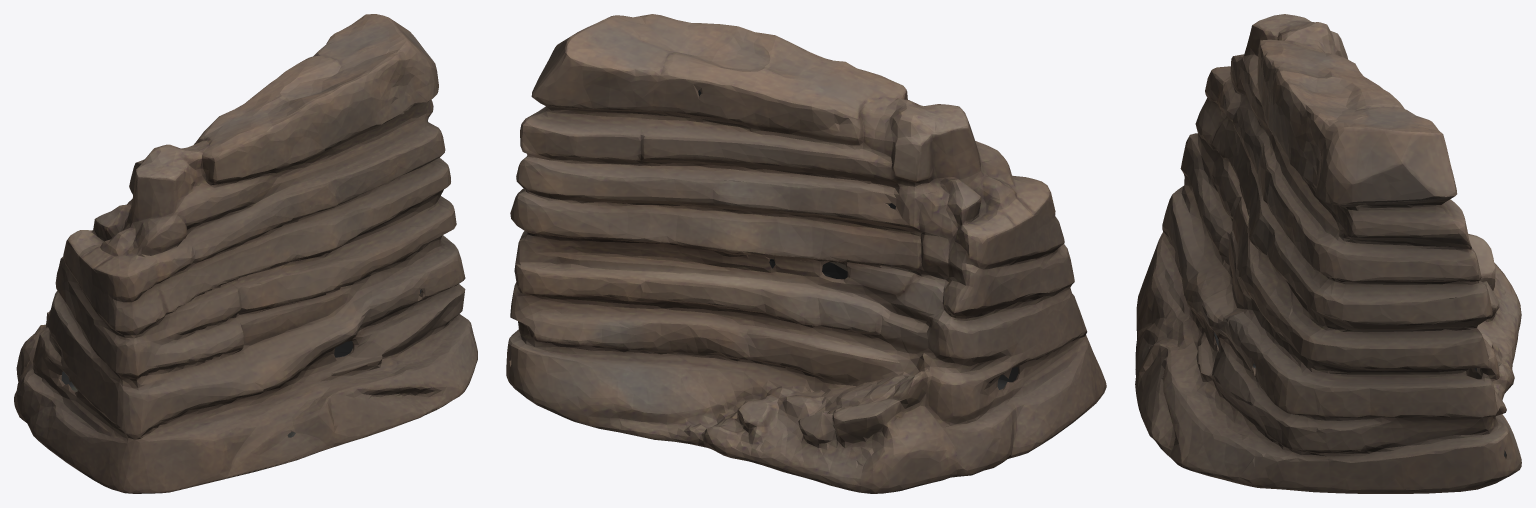
3 views of the same model, side by side, from view 1: azimuth 30°, elevation 25°; view 2: azimuth 150°, elevation 25°; view 3: azimuth 270°, elevation 25° (orthographic). The views are drawn at different scales.
Visible parts, largest first — view 1: world; view 2: world; view 3: world.
Boxes of the visible parts, box(x1,y1,x2,y2) form: world: box(14, 14, 477, 493); world: box(506, 14, 1106, 493); world: box(1135, 14, 1521, 493).
Bounding box in the file's own units: 0.6956 × 0.4921 × 0.4754.
1 material, 1 textured.
